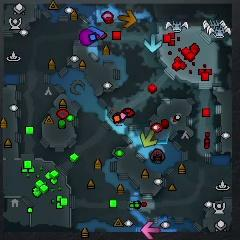p1: (87, 25, 105, 37)
p3: (80, 28, 100, 45)
x1: (142, 221, 161, 239)
x2: (140, 130, 157, 147)
x3: (144, 33, 164, 53)
x5: (118, 9, 137, 28)
